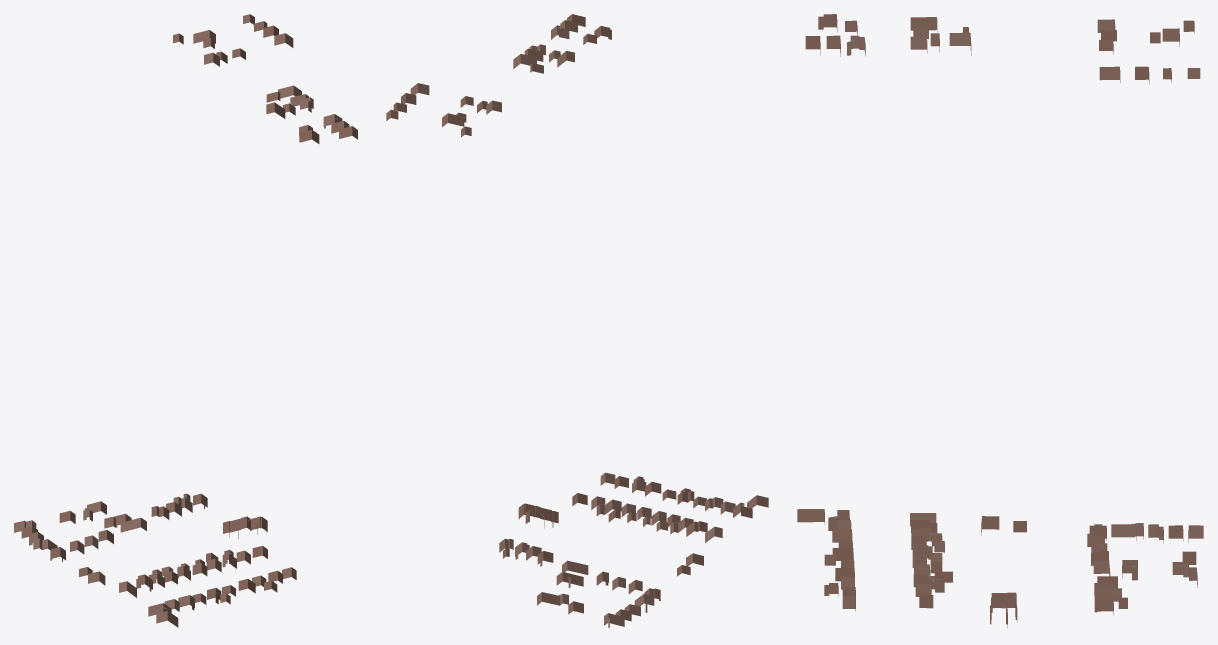
File: c_1638_17822_buildings_residential.glb
The picture shows the model from 3 angles, left to right: view 1: azimuth 30°, elevation 25°; view 2: azimuth 150°, elevation 25°; view 3: azimuth 270°, elevation 25°; orthographic projection. The views are drawn at different scales.
Visible parts, largest first — view 1: geometry_0; view 2: geometry_0; view 3: geometry_0.
Boxes of the visible parts, x1,y1,x2,y2 form: geometry_0: (14, 14, 357, 627); geometry_0: (386, 14, 768, 627); geometry_0: (797, 14, 1203, 627).
Bounding box in the file's own units: 247 × 449 × 266.
